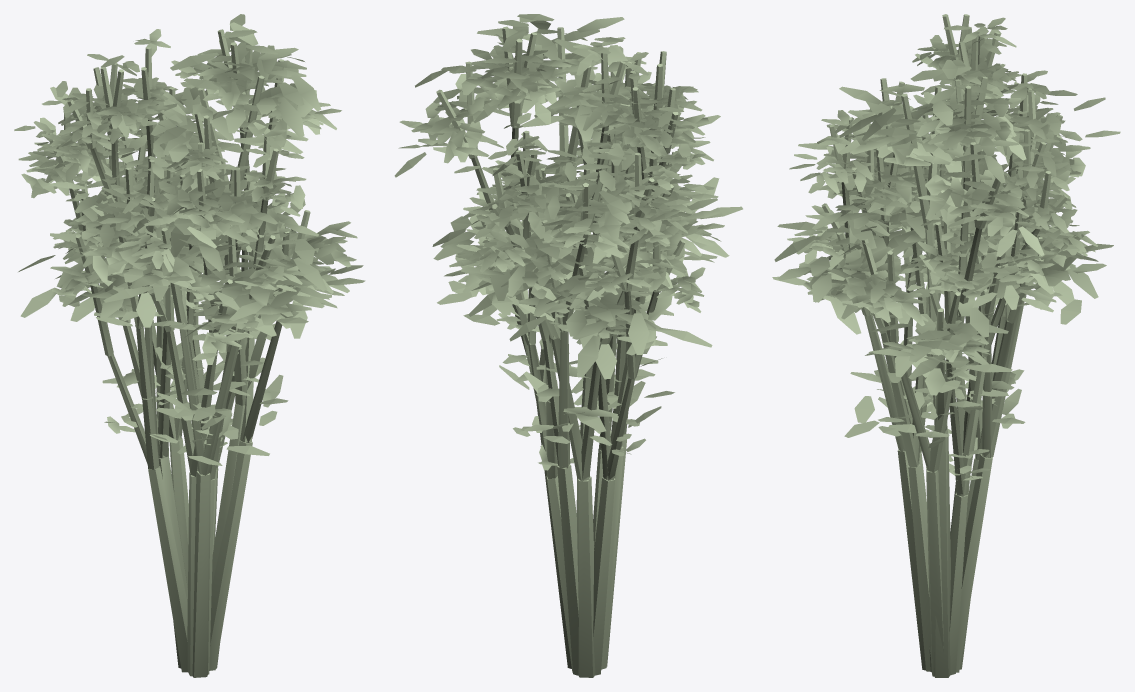
File: tree_willow.glb
3 views of the same model, side by side, from view 1: azimuth 30°, elevation 25°; view 2: azimuth 150°, elevation 25°; view 3: azimuth 270°, elevation 25° (orthographic). The views are drawn at different scales.
Parts seen in each view (by area): view 1: tier0_foliage, tier1_foliage, tier2_foliage, tier2_bark, tier1_bark, tier0_bark; view 2: tier1_foliage, tier2_foliage, tier0_foliage, tier2_bark, tier1_bark, tier0_bark; view 3: tier1_foliage, tier0_foliage, tier2_foliage, tier2_bark, tier1_bark, tier0_bark.
Boxes of the visible parts, x1,y1,x2,y2 form: tier0_foliage: [18, 22, 365, 465]; tier1_foliage: [26, 14, 357, 453]; tier2_foliage: [14, 29, 320, 453]; tier2_bark: [46, 47, 296, 674]; tier1_bark: [86, 29, 310, 676]; tier0_bark: [92, 75, 291, 677]; tier1_foliage: [394, 14, 724, 443]; tier2_foliage: [449, 37, 718, 470]; tier0_foliage: [432, 17, 742, 432]; tier2_bark: [481, 47, 685, 675]; tier1_bark: [436, 26, 673, 675]; tier0_bark: [512, 27, 634, 677]; tier1_foliage: [798, 60, 1120, 448]; tier0_foliage: [772, 60, 1113, 437]; tier2_foliage: [787, 17, 1097, 480]; tier2_bark: [821, 14, 1067, 675]; tier1_bark: [851, 76, 1062, 676]; tier0_bark: [836, 86, 1044, 677].
Bounding box in the file's own units: 0.5121 × 1 × 0.5045.
